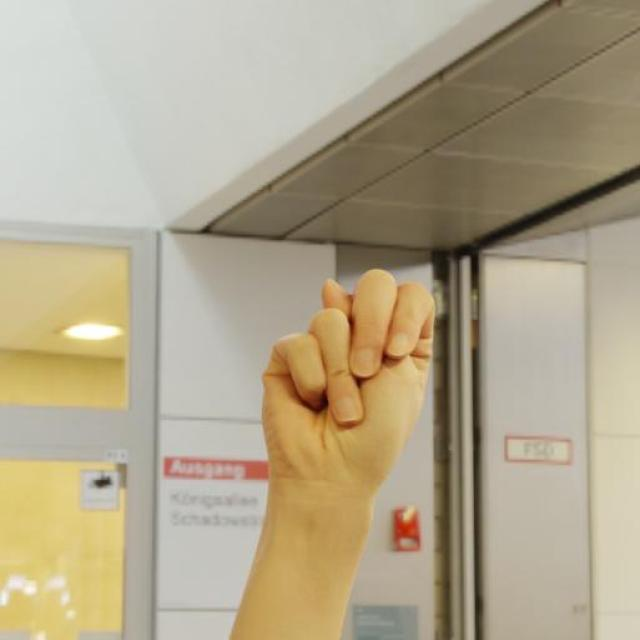N: (254, 266, 440, 484)
